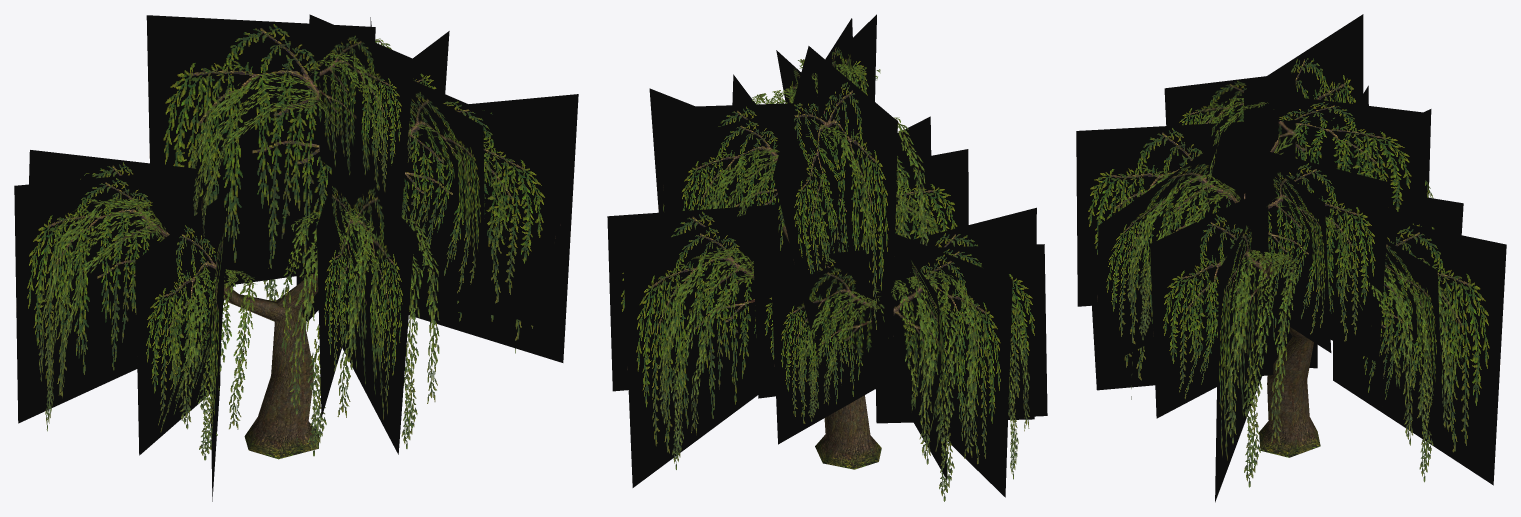
File: tre_willow03.static.glb
3 renders of one model, left to right at view 1: azimuth 30°, elevation 25°; view 2: azimuth 150°, elevation 25°; view 3: azimuth 270°, elevation 25°, orthographic. The views are drawn at different scales.
Visible parts, largest first — view 1: tre_willow03_leaf02, tre_willow03_leaf01, tre_willow03_will01; view 2: tre_willow03_leaf02, tre_willow03_leaf01, tre_willow03_will01; view 3: tre_willow03_leaf02, tre_willow03_leaf01, tre_willow03_will01.
Part boxes in pixels (x1,y1,x2,y2): tre_willow03_leaf02: (14,14,578,501); tre_willow03_leaf01: (38,38,515,460); tre_willow03_will01: (161,197,318,459); tre_willow03_leaf02: (607,14,1047,497); tre_willow03_leaf01: (658,59,1029,501); tre_willow03_will01: (782,226,894,469); tre_willow03_leaf02: (1076,14,1506,502); tre_willow03_leaf01: (1123,97,1462,487); tre_willow03_will01: (1247,248,1320,457).
Size of the model in its own units: 97.32 by 81.04 by 82.13.
Materials: 3 (3 with a texture image).
